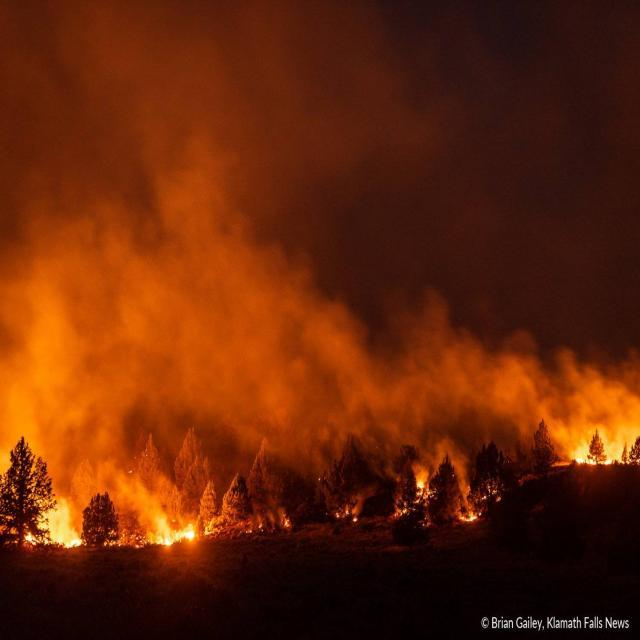Fire: (568, 424, 618, 470)
Smoke: (0, 122, 640, 438)
